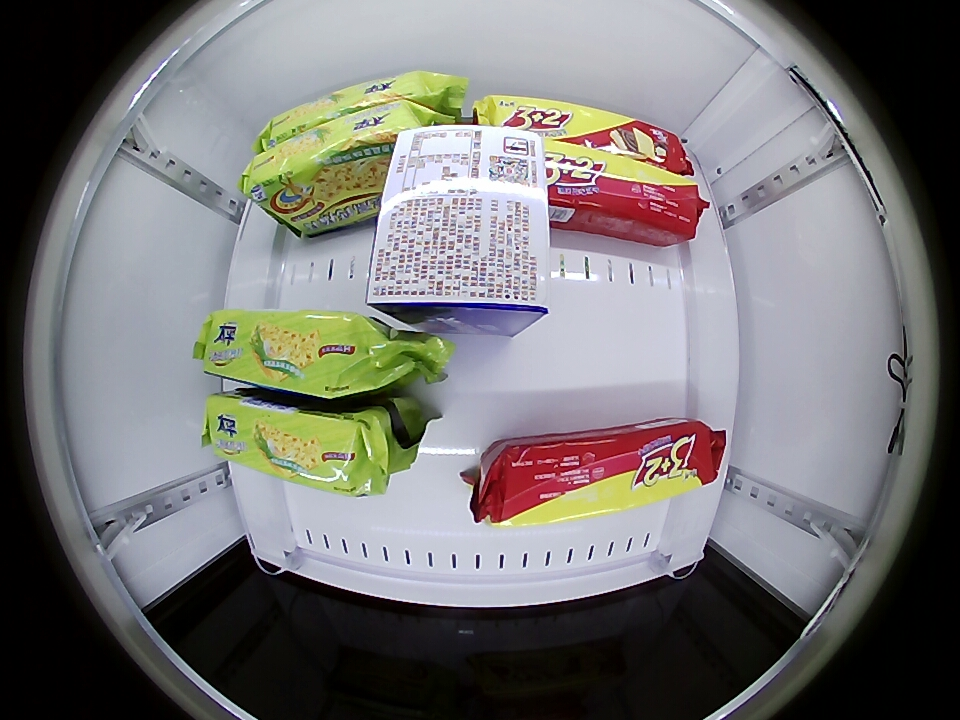3jia2: (487, 424, 720, 527), (544, 134, 700, 239), (479, 96, 690, 163)
meiniye: (367, 123, 553, 316)
taipingshuda: (241, 100, 439, 195), (206, 393, 387, 495), (197, 310, 399, 397), (260, 72, 465, 140)
